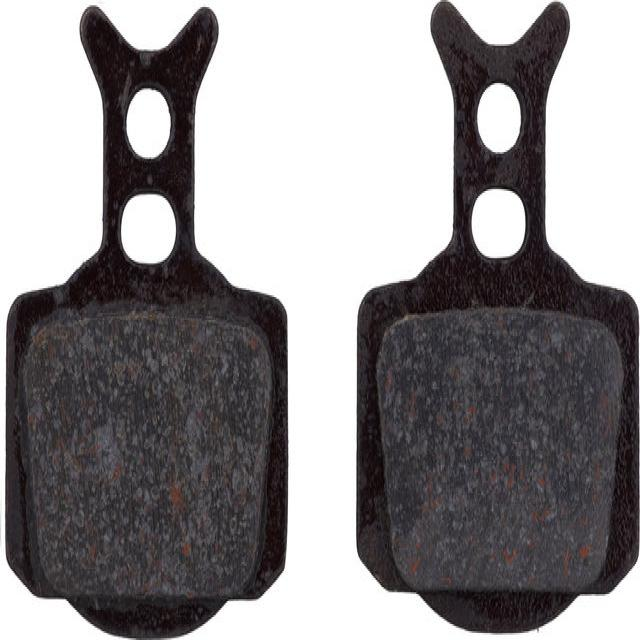brake_pad: (2, 2, 298, 636), (349, 5, 638, 638)
